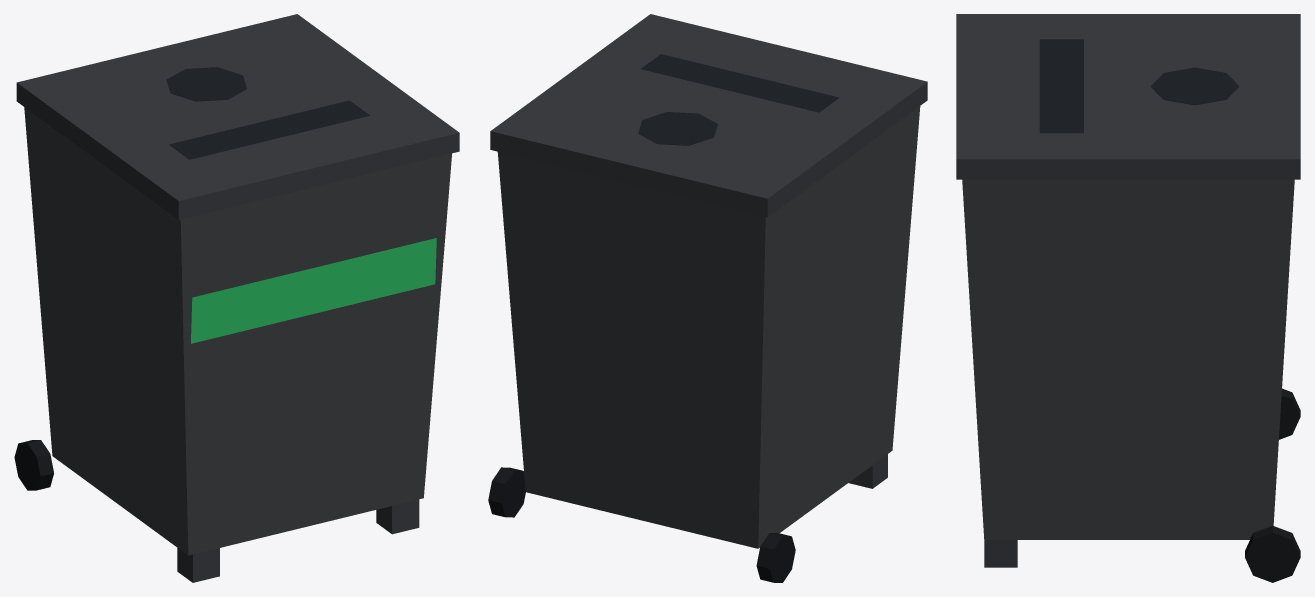
The model's file is Container_TechWaste.glb.
3 views of the same model, side by side, from view 1: azimuth 30°, elevation 25°; view 2: azimuth 150°, elevation 25°; view 3: azimuth 270°, elevation 25° (orthographic). The views are drawn at different scales.
Visible parts, largest first — view 1: Container_TechWaste; view 2: Container_TechWaste; view 3: Container_TechWaste.
Boxes of the visible parts, x1=… form: Container_TechWaste: x1=14, y1=14, x2=459, y2=582; Container_TechWaste: x1=488, y1=14, x2=927, y2=582; Container_TechWaste: x1=956, y1=14, x2=1300, y2=582.
Size of what is drawn, in the model's own units: 0.63 by 0.8409 by 0.62.
